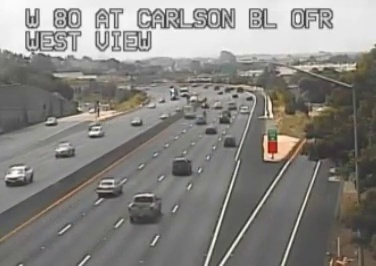car: (128, 194, 160, 219), (96, 179, 122, 195), (171, 158, 191, 176), (223, 136, 235, 147)
